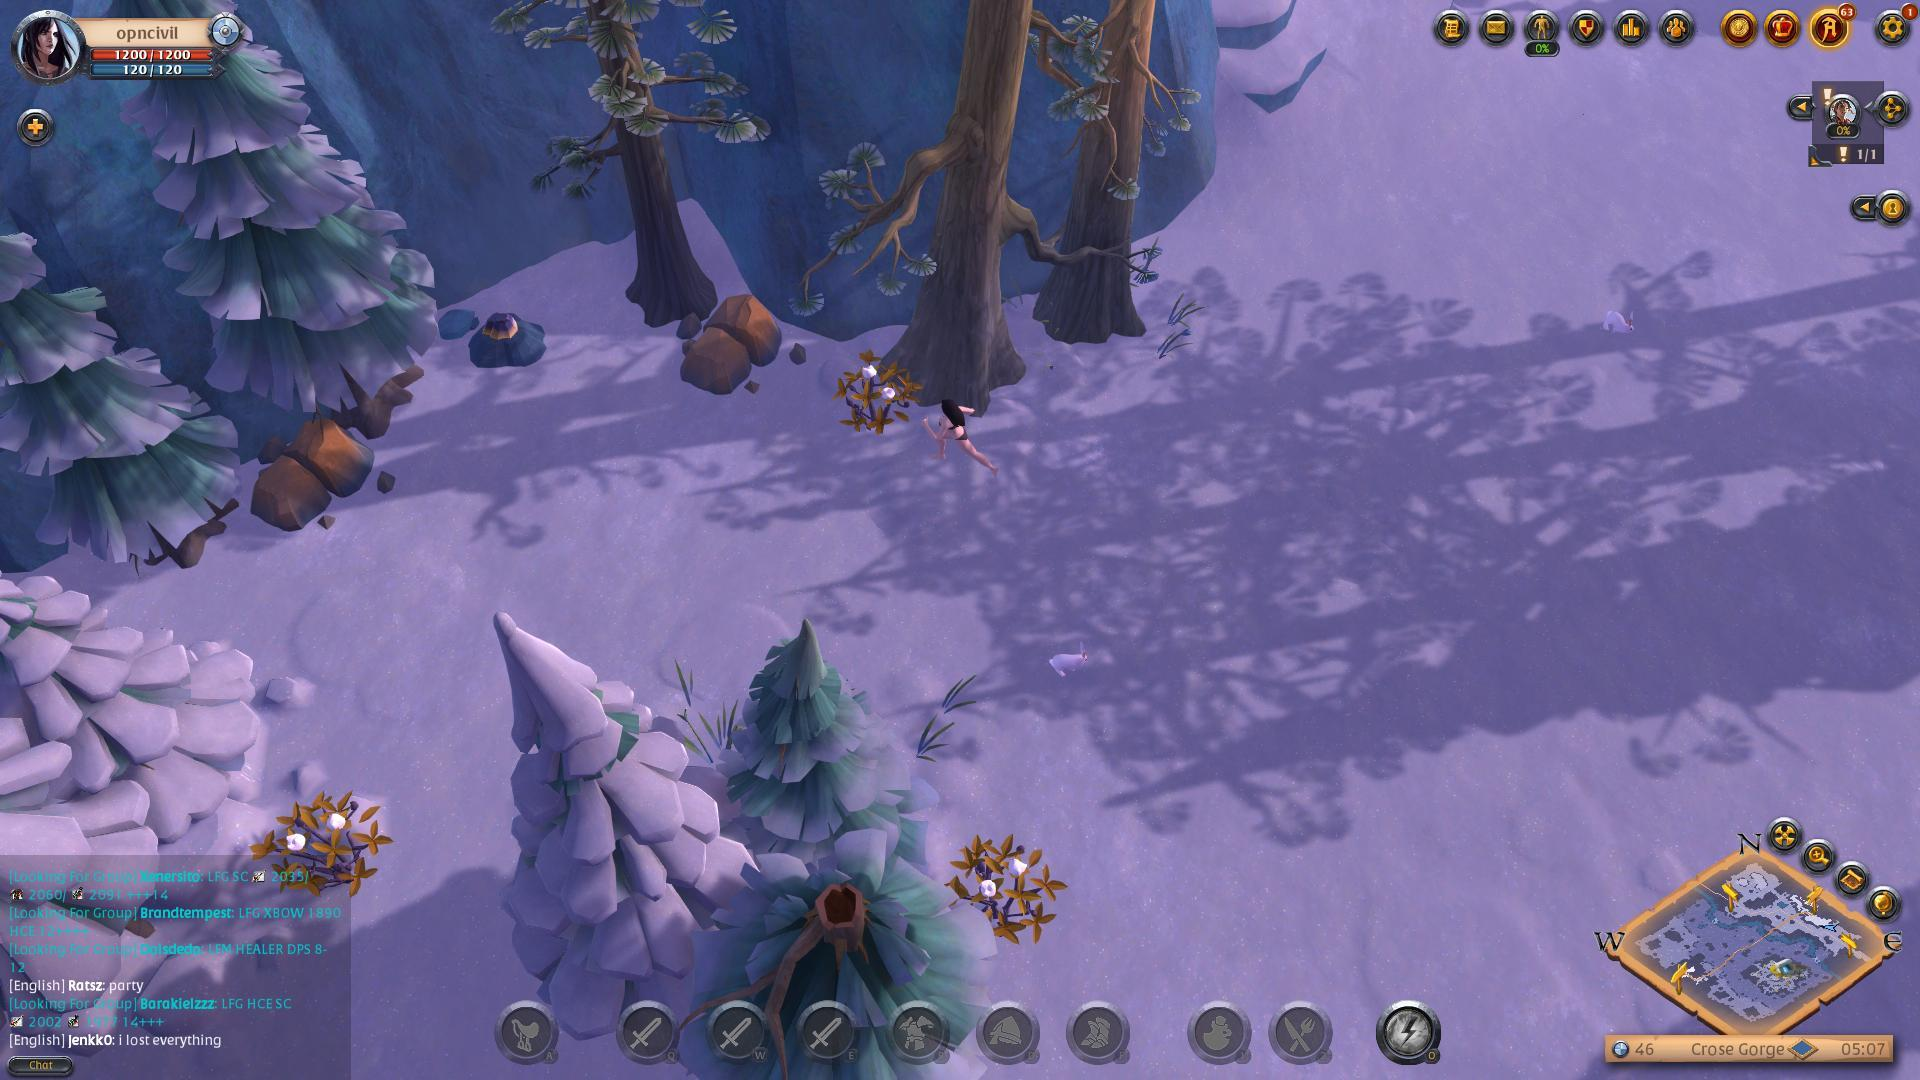copper_ore: (446, 298, 563, 378)
cotton: (261, 787, 419, 891), (942, 833, 1071, 940), (815, 359, 947, 430)
limestone: (237, 415, 390, 534), (678, 287, 789, 401)
